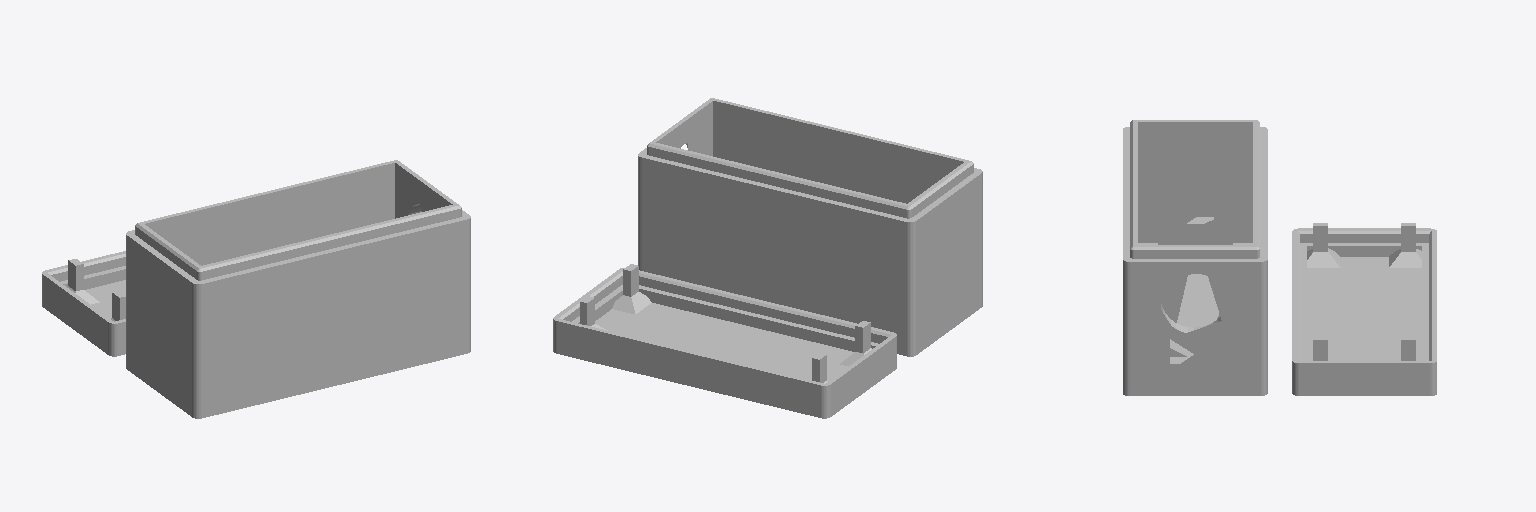
Rendered from nano-case-test.obj.
3 views of the same model, side by side, from view 1: azimuth 30°, elevation 25°; view 2: azimuth 150°, elevation 25°; view 3: azimuth 270°, elevation 25° (orthographic).
Visible parts, largest first — view 1: NANOCASE-bottom.004, NANOCASE-top-0.002; view 2: NANOCASE-bottom.004, NANOCASE-top-0.002; view 3: NANOCASE-bottom.004, NANOCASE-top-0.002.
Boxes of the visible parts, box(x1,y1,x2,y2) form: NANOCASE-bottom.004: box(126, 160, 470, 418); NANOCASE-top-0.002: box(42, 251, 125, 356); NANOCASE-bottom.004: box(638, 98, 982, 356); NANOCASE-top-0.002: box(553, 264, 896, 418); NANOCASE-bottom.004: box(1123, 120, 1267, 395); NANOCASE-top-0.002: box(1292, 223, 1436, 395).
Bounding box in the file's own units: 53.01 × 26.56 × 52.05.